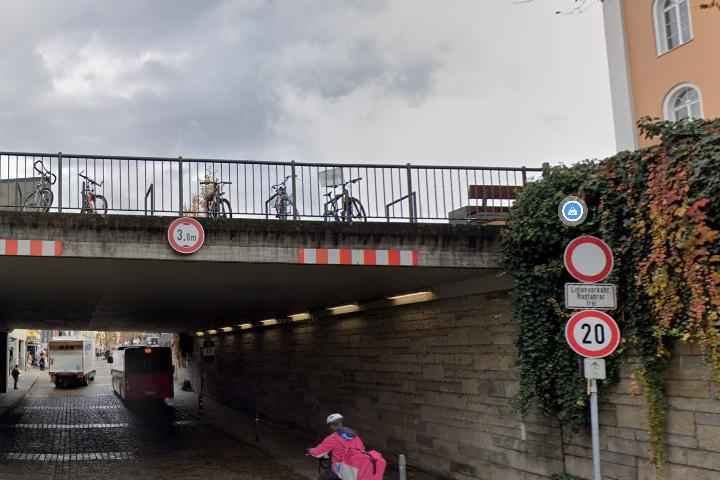google_maps: (562, 200, 584, 222)
traffic_sign: (564, 307, 622, 359), (561, 235, 614, 283), (166, 215, 206, 254)
vehicle: (104, 343, 181, 405), (45, 335, 98, 389)
